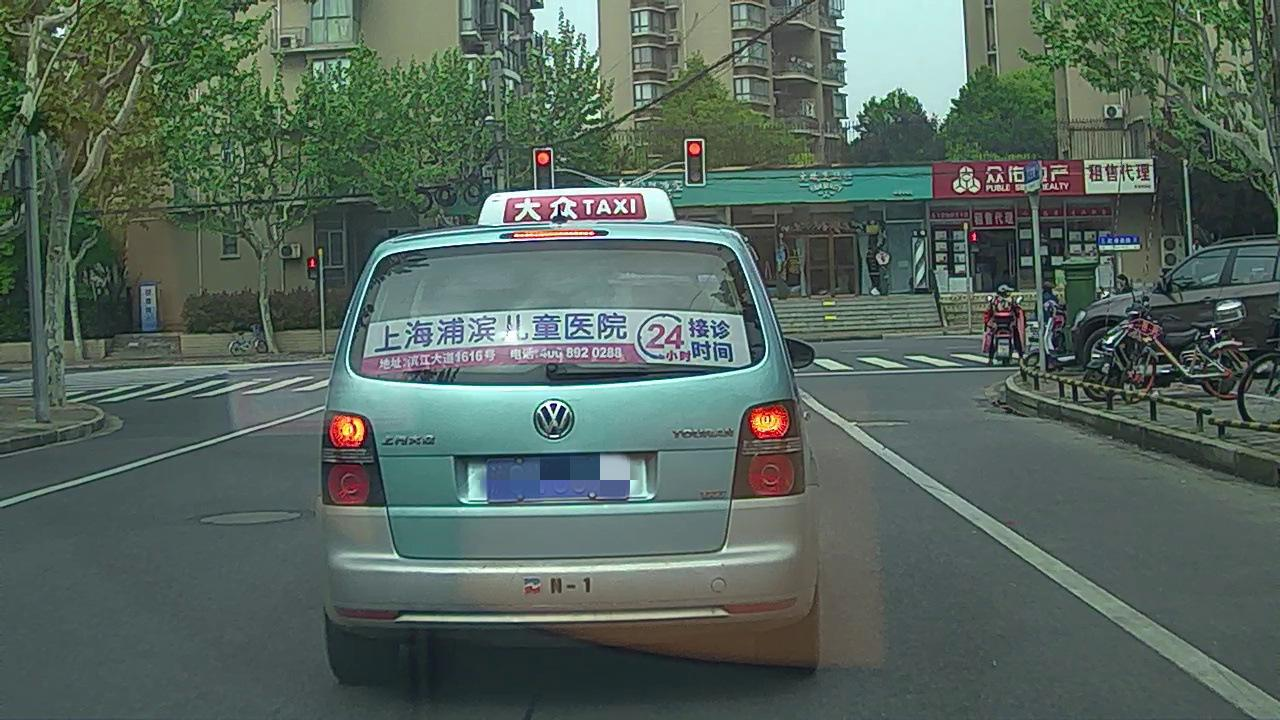traffic_light: (687, 139, 704, 185), (537, 150, 553, 189)
